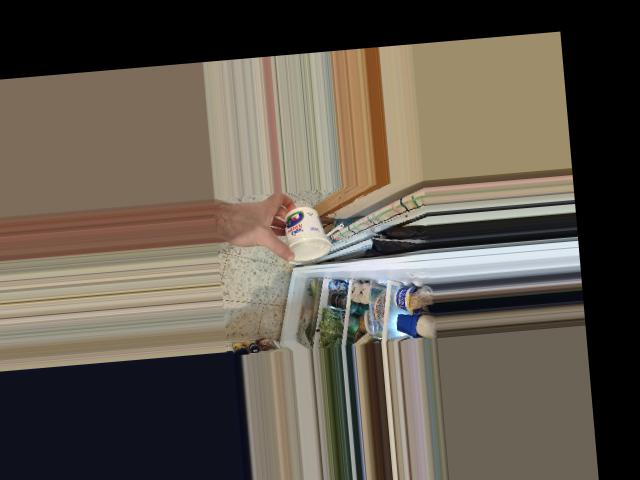cotage: (274, 202, 333, 265)
